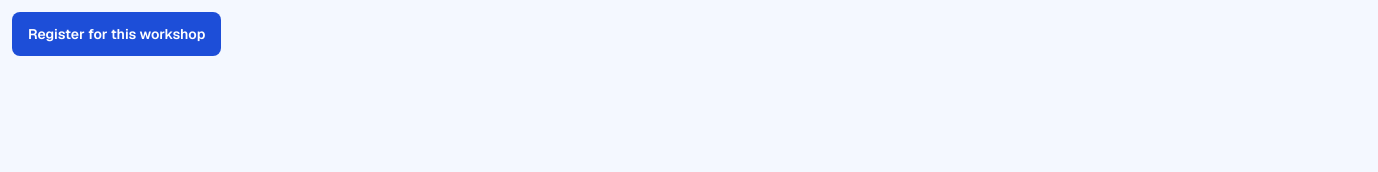
RegisterButton › shows the backend rule message when registration is refused
Click the button "Register for this workshop" at (117, 34), box [12,12,221,56]
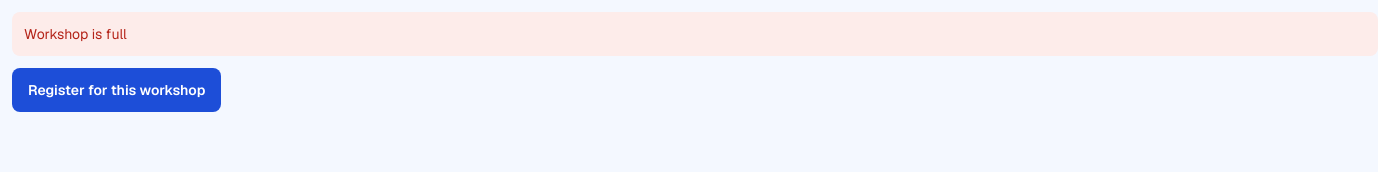
Check: the message reads "Workshop is full", box [24,25,127,43]
